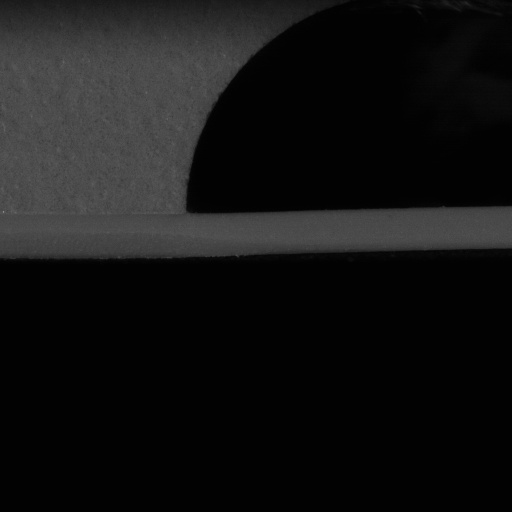changdai: (181, 209, 511, 257)
